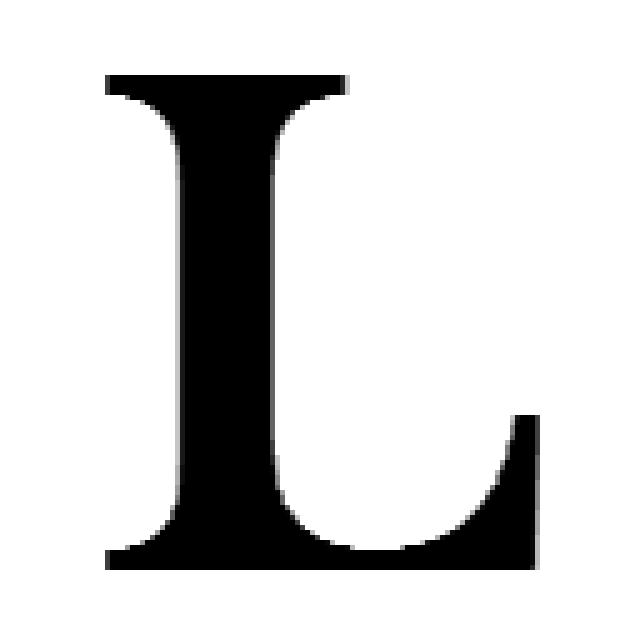L: (100, 70, 542, 570)
